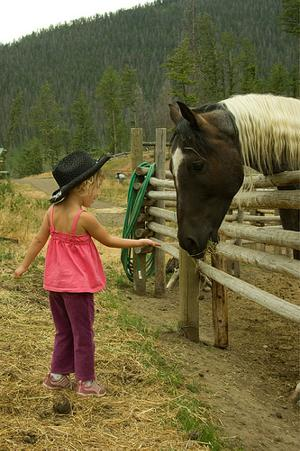person: (14, 143, 163, 396)
